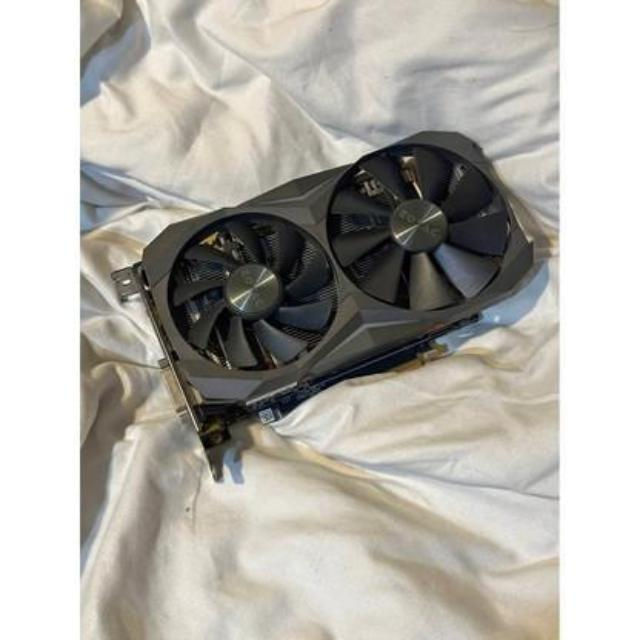GPU: (118, 114, 550, 431)
